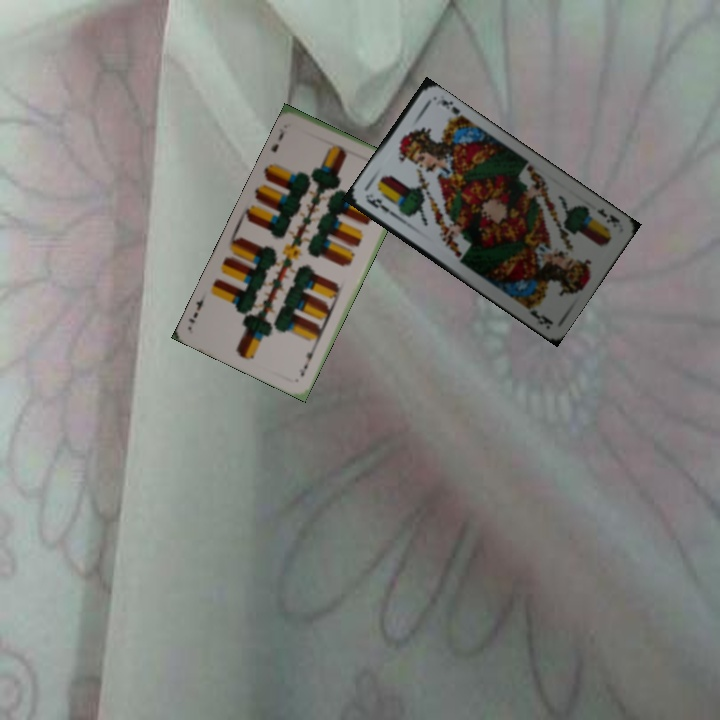E7: (295, 343, 319, 379), (267, 125, 287, 155)
EK: (362, 194, 399, 219), (593, 204, 623, 226)
